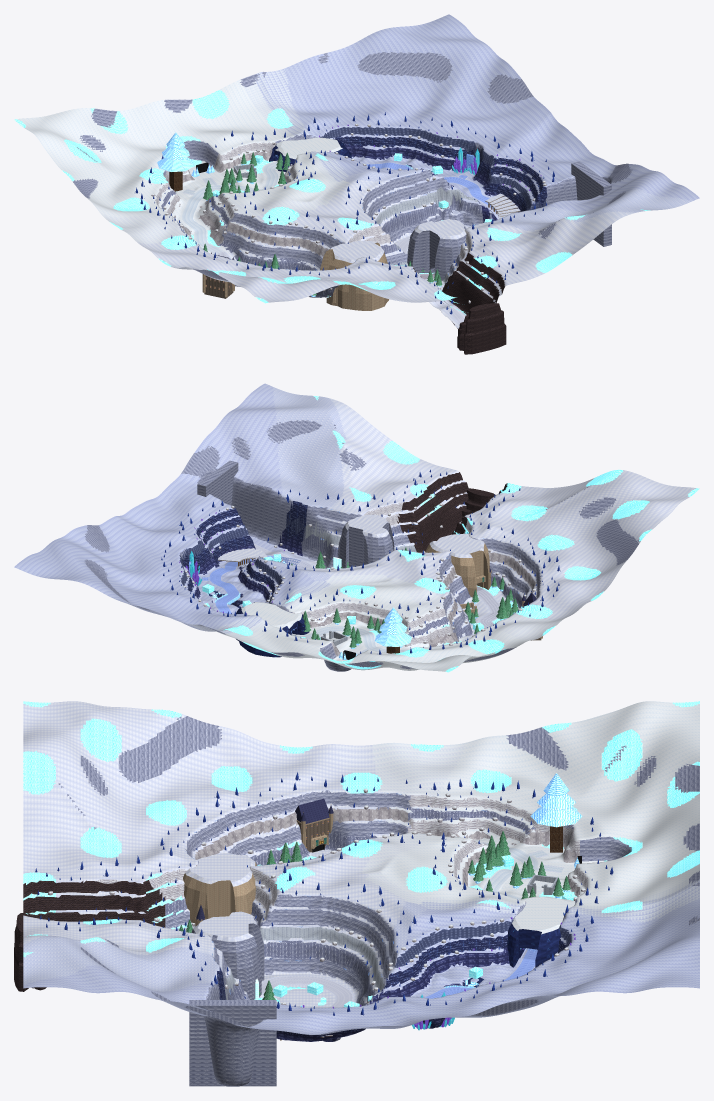
The picture shows the model from 3 angles, top to bottom: view 1: azimuth 30°, elevation 25°; view 2: azimuth 150°, elevation 25°; view 3: azimuth 270°, elevation 25°; orthographic projection. The views are drawn at different scales.
Visible parts, largest first — view 1: Snow Kingdom, Frozen Falls Rock, Gatehouse Rock, Gorge Bend 3, Road 09 summit, Ice Cave Rock, Frozen Pass Bend, Great Keep 30 20 30; view 2: Snow Kingdom, Frozen Falls Rock, Gatehouse Rock, Ice Cave Rock, Frozen Pass Bend, Road 09 summit, Road 15 aurora, Road 05 frostveil; view 3: Snow Kingdom, Frozen Pass Bend, Gatehouse Rock, Frozen Falls Rock, Ice Cave Rock, Great Keep 30 20 30, Road 19 lake, Road 09 summit, Giant Tree Crown 0, Gorge Bend 3.
Part boxes in pixels (left/top/right/bottom): Snow Kingdom: left=14, top=14, right=699, bottom=328; Frozen Falls Rock: left=407, top=219, right=466, bottom=280; Gatehouse Rock: left=320, top=241, right=388, bottom=310; Gorge Bend 3: left=464, top=303, right=506, bottom=354; Road 09 summit: left=180, top=161, right=279, bottom=243; Ice Cave Rock: left=269, top=137, right=352, bottom=171; Frozen Pass Bend: left=571, top=161, right=611, bottom=246; Great Keep 30 20 30: left=202, top=252, right=234, bottom=298; Snow Kingdom: left=14, top=383, right=699, bottom=672; Frozen Falls Rock: left=337, top=514, right=394, bottom=568; Gatehouse Rock: left=425, top=533, right=490, bottom=597; Ice Cave Rock: left=236, top=602, right=309, bottom=657; Frozen Pass Bend: left=197, top=460, right=238, bottom=505; Road 09 summit: left=291, top=625, right=448, bottom=652; Road 15 aurora: left=208, top=555, right=273, bottom=593; Road 05 frostveil: left=476, top=586, right=499, bottom=628; Snow Kingdom: left=23, top=701, right=699, bottom=1086; Frozen Pass Bend: left=189, top=1000, right=276, bottom=1086; Gatehouse Rock: left=183, top=853, right=256, bottom=926; Frozen Falls Rock: left=191, top=911, right=264, bottom=999; Ice Cave Rock: left=507, top=896, right=575, bottom=967; Great Keep 30 20 30: left=295, top=798, right=333, bottom=852; Road 19 lake: left=261, top=975, right=354, bottom=1007; Road 09 summit: left=476, top=841, right=540, bottom=899; Giant Tree Crown 0: left=530, top=807, right=582, bottom=827; Gorge Bend 3: left=14, top=913, right=29, bottom=991.
Bounding box in the file's own units: 620 × 134 × 629.
86 materials, 86 textured.
